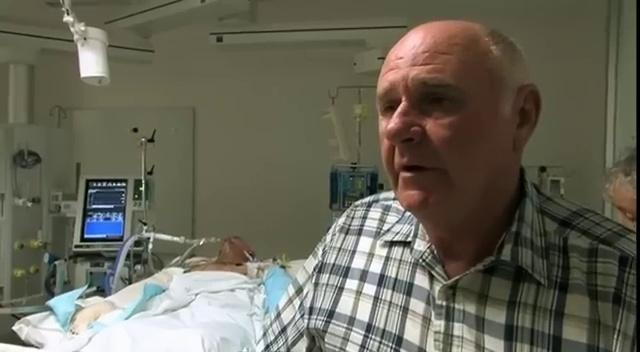others: (279, 0, 631, 352)
patient: (188, 220, 274, 287)
